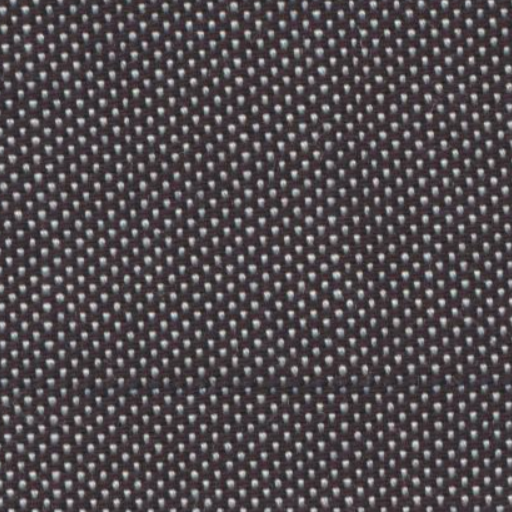TuoSha: (25, 338, 497, 410)
